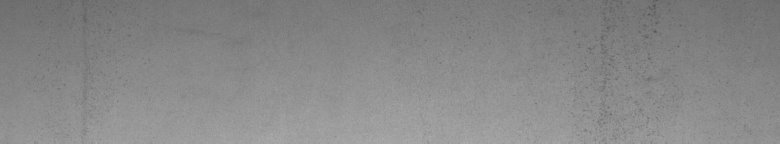ib: (601, 4, 661, 81)
